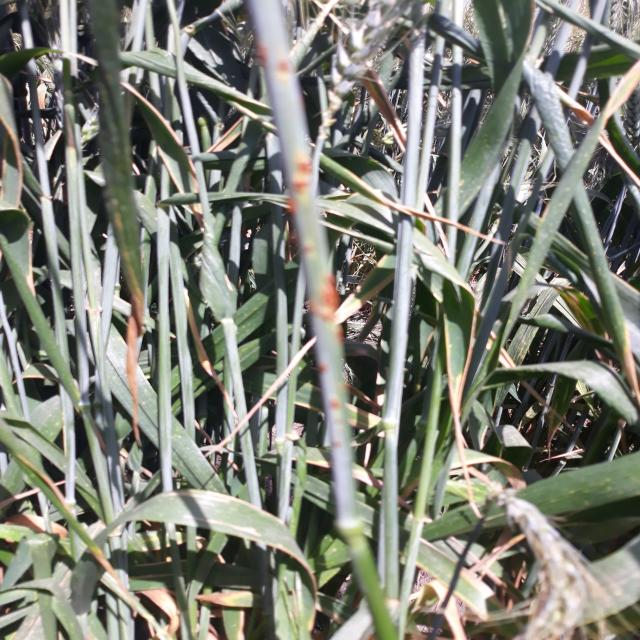black_stem_rust: (227, 1, 399, 532)
